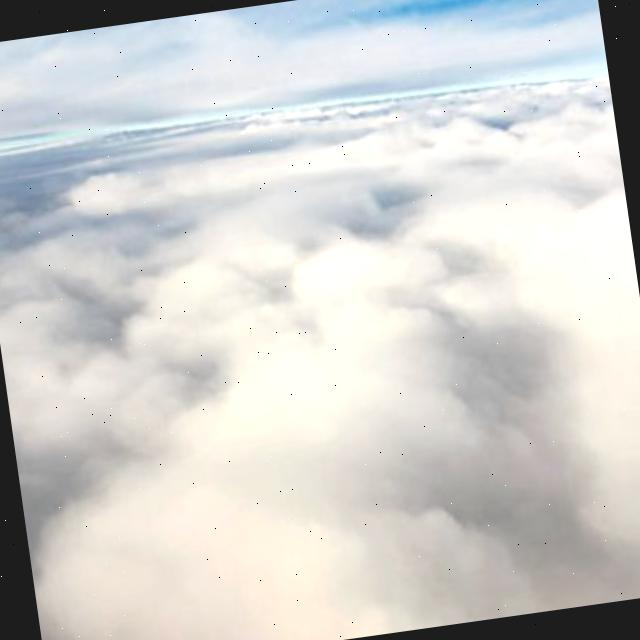As: (1, 68, 640, 640)
